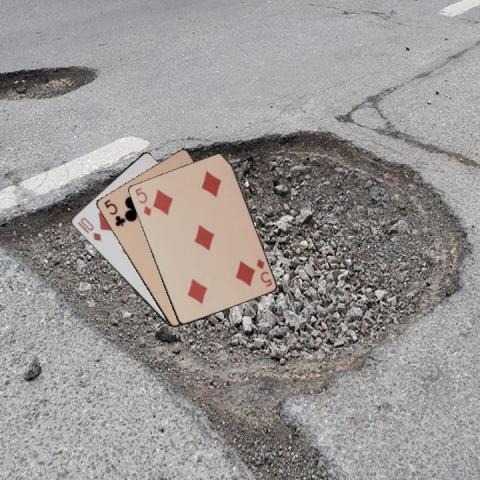10d: (76, 214, 103, 243)
5c: (101, 196, 126, 228)
5d: (132, 185, 153, 217), (253, 256, 274, 288)
